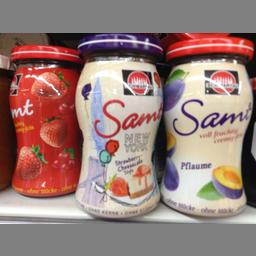jam: (74, 32, 162, 219), (162, 36, 252, 218), (8, 46, 77, 196)
